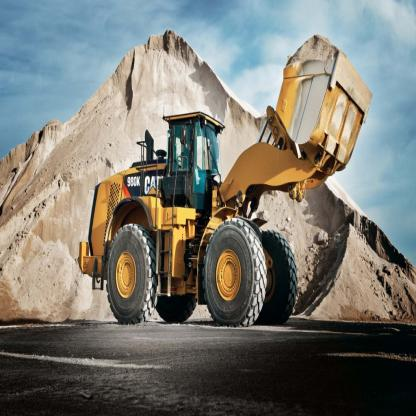bull_dozer/loader/grader: (80, 17, 370, 330)
